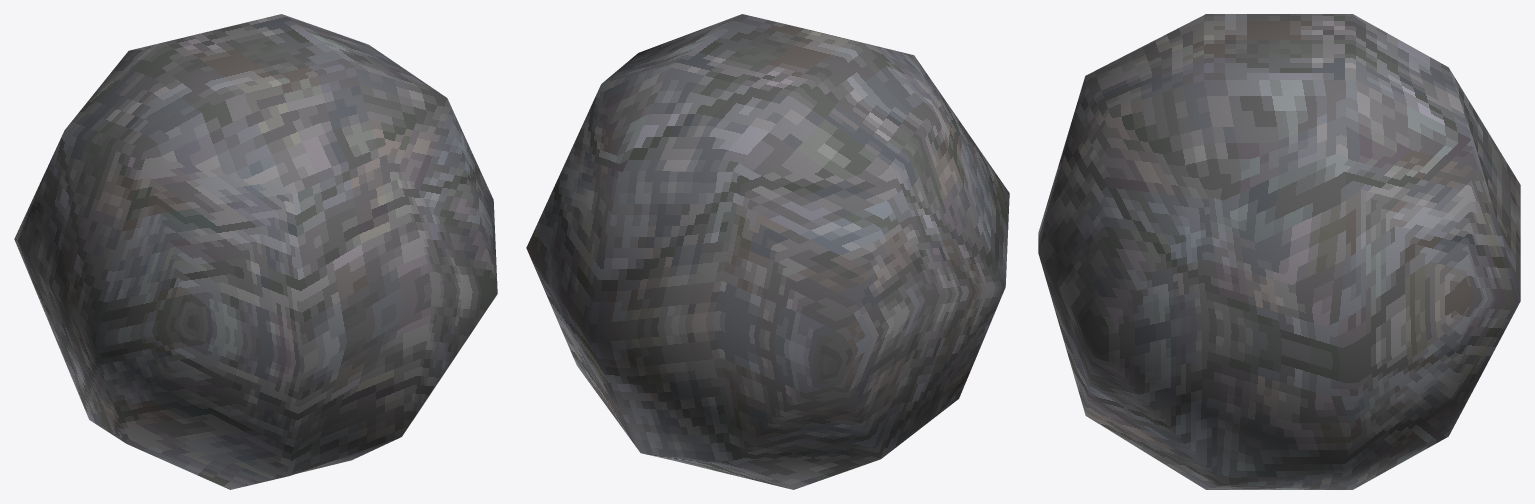
Rendered from Cannonball.obj.
3 renders of one model, left to right at view 1: azimuth 30°, elevation 25°; view 2: azimuth 150°, elevation 25°; view 3: azimuth 270°, elevation 25°, orthographic. The views are drawn at different scales.
Visible parts, largest first — view 1: mesh-0; view 2: mesh-0; view 3: mesh-0.
Boxes of the visible parts, bbox=[...] form: mesh-0: bbox=[14, 14, 497, 489]; mesh-0: bbox=[526, 14, 1009, 489]; mesh-0: bbox=[1038, 14, 1520, 489].
Bounding box in the file's own units: 0.9949 × 0.942 × 0.9949.
Materials: 1 (1 with a texture image).
